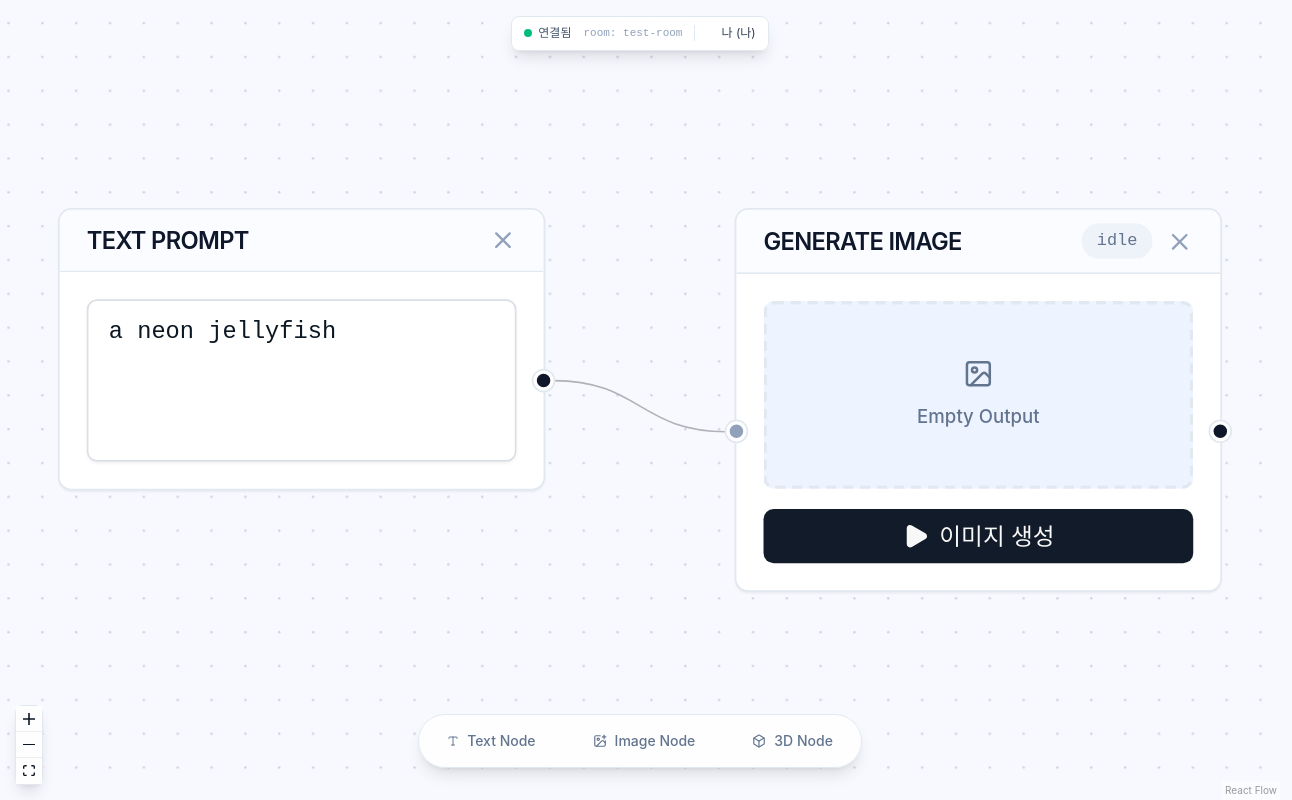
it: PipelineCanvas — Generate Image 실행 › renders the server error message when the run fails
The image size is (1292, 800).
What coordinates should you click on to do the following:
click the button with test id "run-generate-image"
I would click on:
 (978, 535)
Its box is [764,508,1193,562].
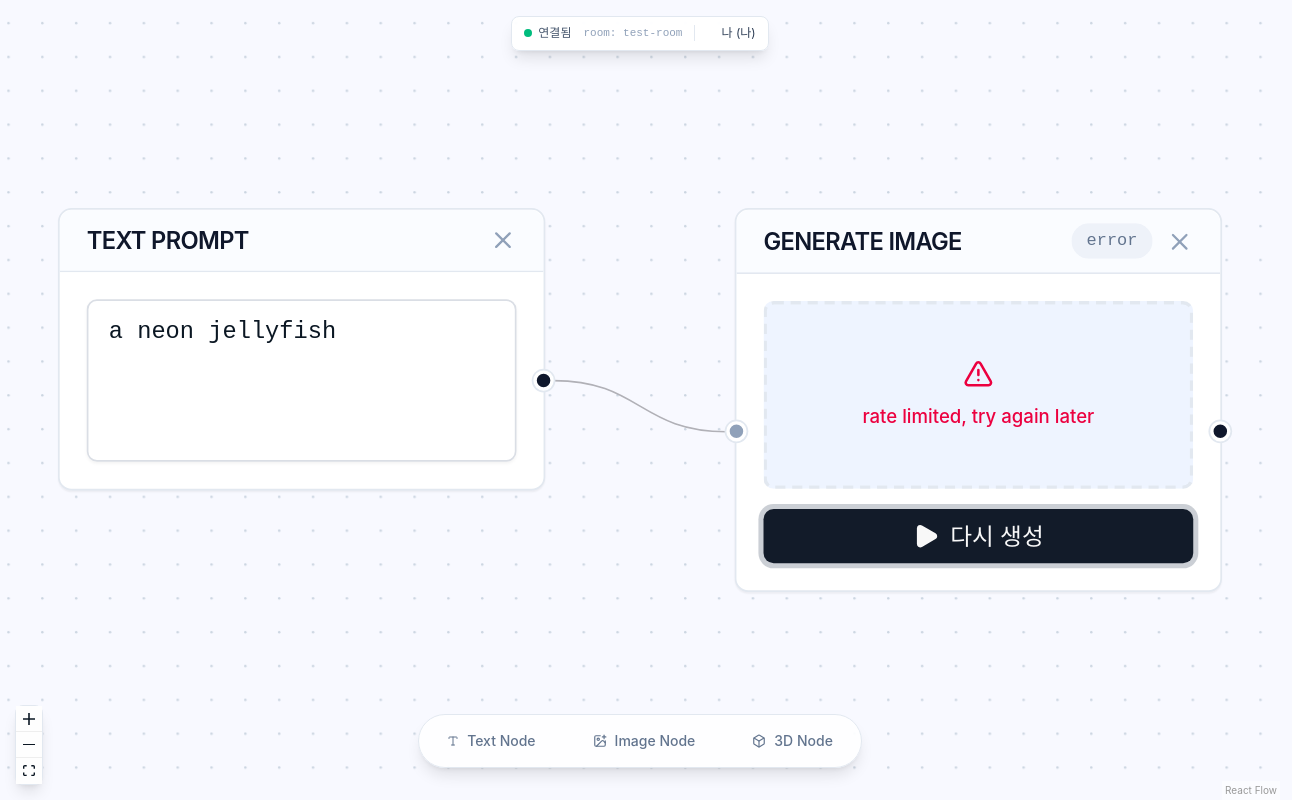
Expected: the message with test id "generate-image-error" reads "rate limited, try again later", [862,404,1094,428]
Expected: the text with test id "generate-image-status" reads "error", [1087,232,1137,250]
